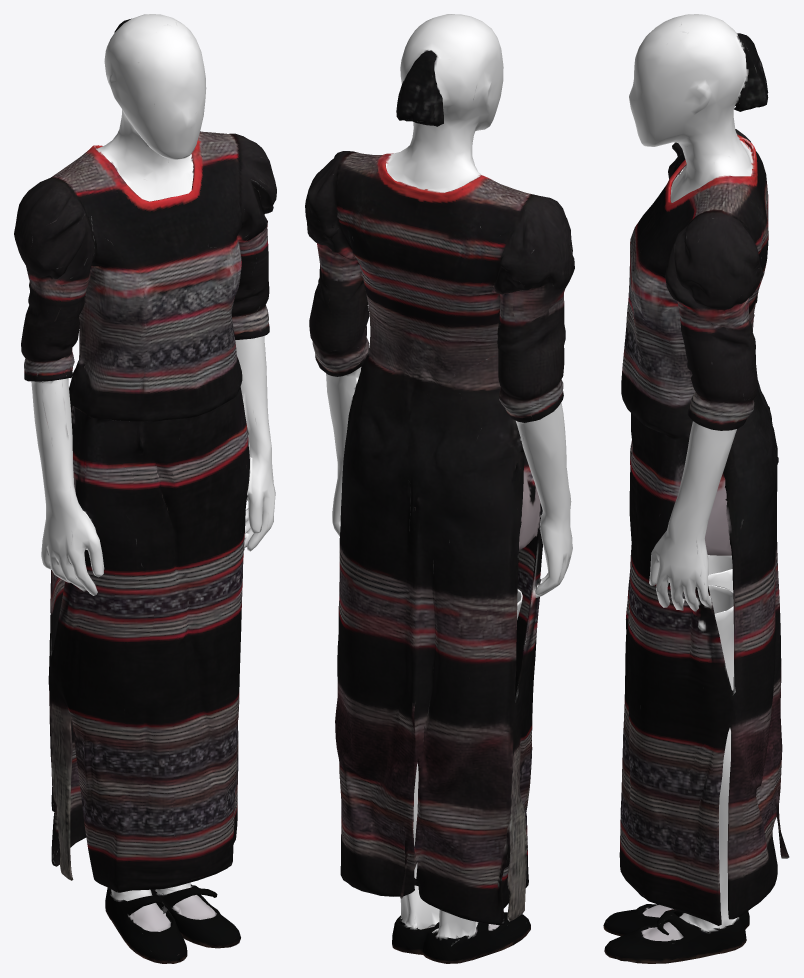
The model's file is Gia_rai_nu_00001.glb.
3 renders of one model, left to right at view 1: azimuth 30°, elevation 25°; view 2: azimuth 150°, elevation 25°; view 3: azimuth 270°, elevation 25°, orthographic. The views are drawn at different scales.
Bounding box in the file's own units: 0.2758 × 0.967 × 0.1773.
Materials: 1 (1 with a texture image).
